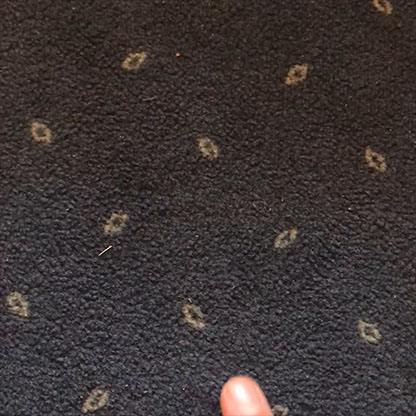fingertip: (204, 358, 280, 413)
